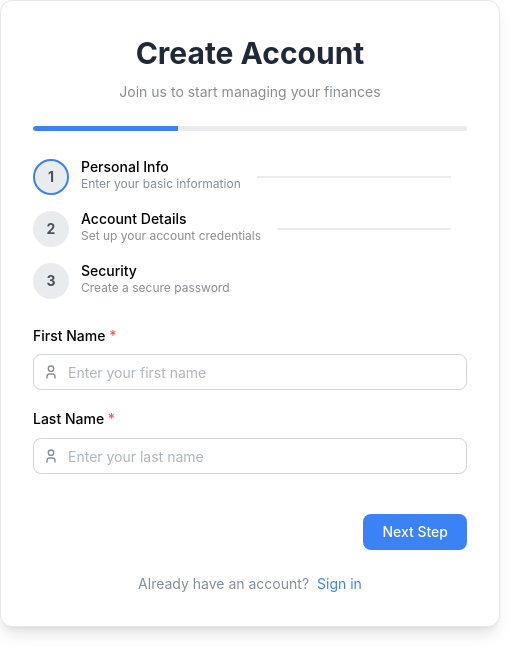
RegistrationForm › should allow navigation back through steps
Go to second step
In the field labelled "First Name *": (250, 372) top-left (33, 354), bottom-right (467, 390), type "John"
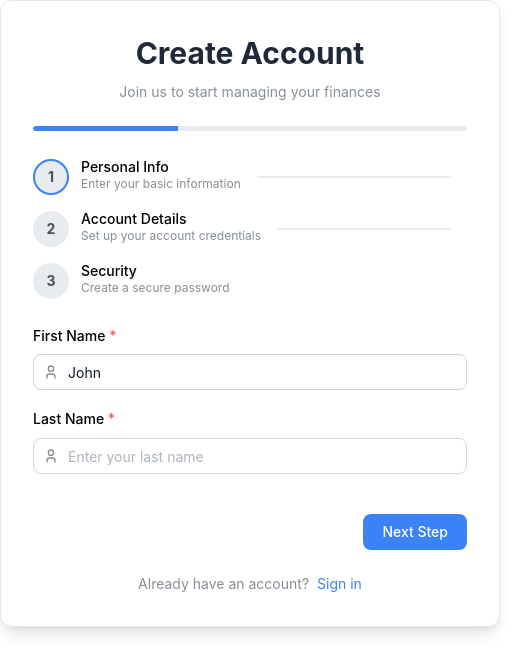
In the field labelled "Last Name *": (250, 456) top-left (33, 438), bottom-right (467, 474), type "Doe"
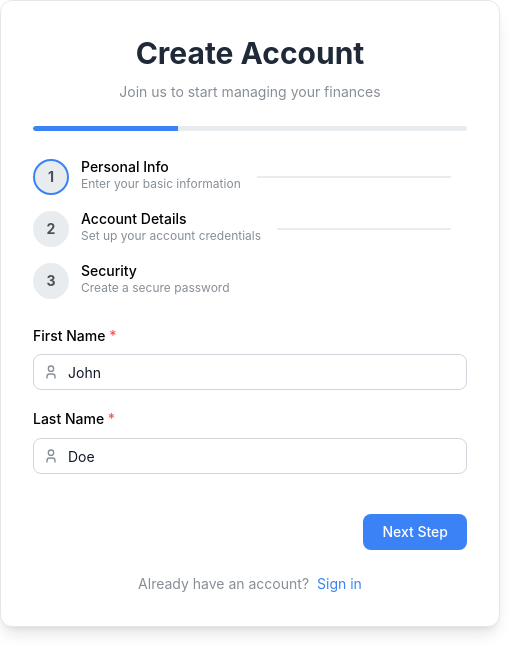
Click the button "Next Step": (415, 532) top-left (363, 514), bottom-right (467, 550)
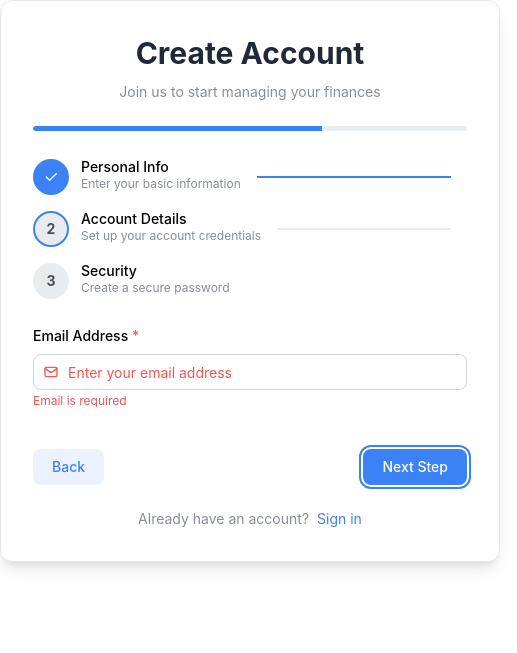
Go back to first step
Click the button "Back": (69, 467) top-left (33, 449), bottom-right (104, 485)
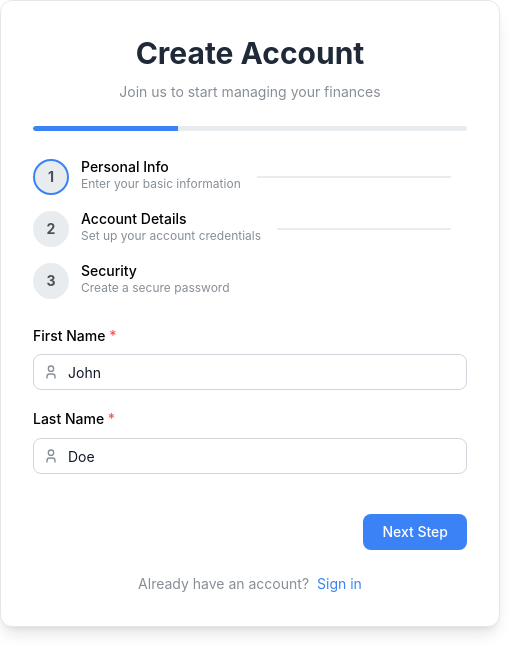
Check: the field showing "Doe" is shown, box top-left (33, 438), bottom-right (467, 474)
